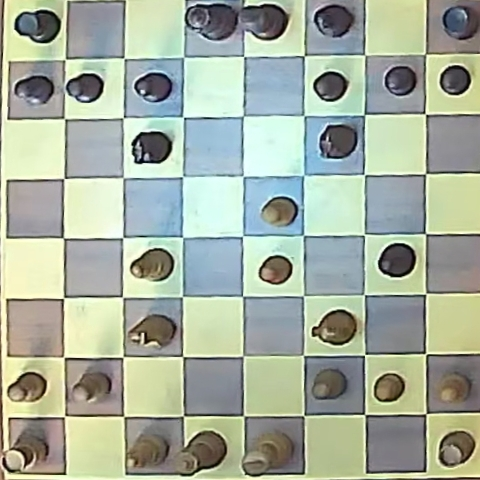black-bishop: (313, 4, 353, 38), (378, 243, 416, 278)
black-king: (238, 4, 285, 40)
black-knight: (318, 124, 357, 159), (131, 131, 171, 164)
black-pawn: (14, 75, 54, 105), (65, 73, 104, 103), (133, 72, 172, 102), (384, 65, 417, 96), (313, 71, 347, 101), (439, 65, 471, 95)
black-queen: (186, 3, 238, 40)
black-rook: (14, 9, 60, 44), (441, 5, 479, 40)
white-bishop: (125, 435, 168, 471), (131, 249, 173, 282)
white-king: (241, 429, 293, 475)
white-knight: (127, 314, 175, 349), (312, 310, 356, 346)
white-pawn: (7, 372, 47, 402), (72, 373, 110, 404), (261, 197, 297, 227), (312, 369, 346, 400), (437, 373, 469, 404), (259, 255, 292, 285), (374, 374, 405, 402)
white-queen: (173, 430, 226, 475)
white-rook: (2, 429, 48, 472), (438, 431, 474, 467)
